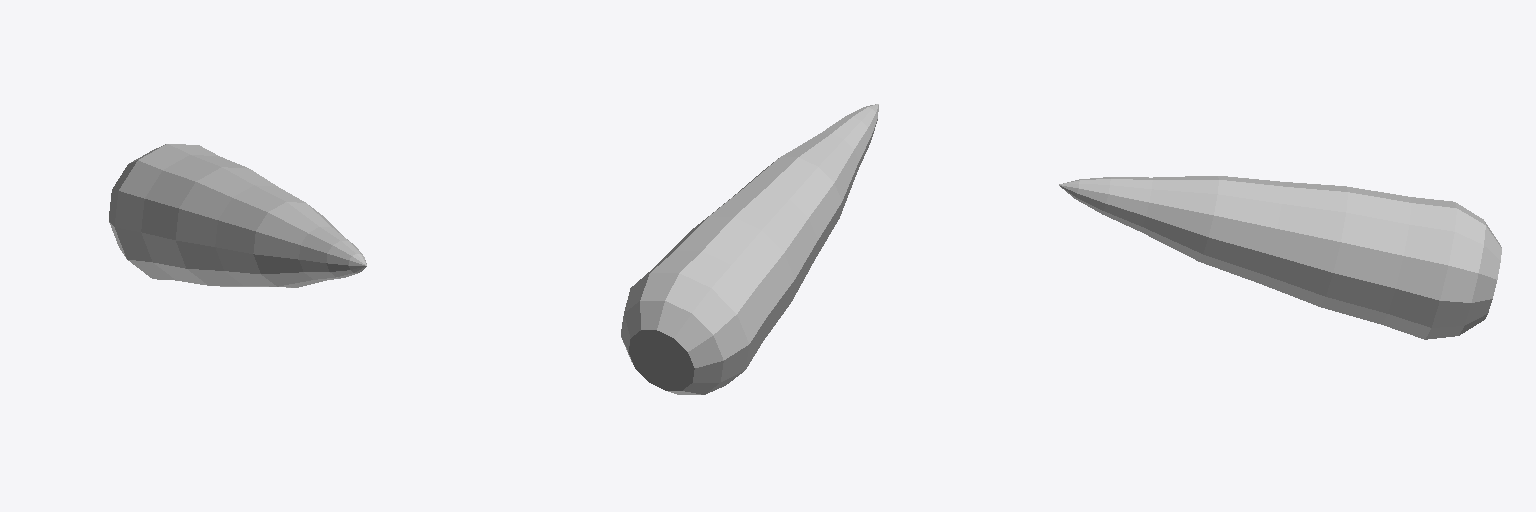
File: Zanahoria.obj
The picture shows the model from 3 angles: view 1: azimuth 30°, elevation 25°; view 2: azimuth 150°, elevation 25°; view 3: azimuth 270°, elevation 25°; orthographic projection.
Parts seen in each view (by area): view 1: Zanahoria_Sola_carrot.001; view 2: Zanahoria_Sola_carrot.001; view 3: Zanahoria_Sola_carrot.001.
Boxes of the visible parts, x1,y1,x2,y2 form: Zanahoria_Sola_carrot.001: [109, 144, 366, 287]; Zanahoria_Sola_carrot.001: [621, 104, 878, 394]; Zanahoria_Sola_carrot.001: [1059, 176, 1501, 339].
Size of the model in its own units: 0.1229 by 0.1476 by 0.3845.